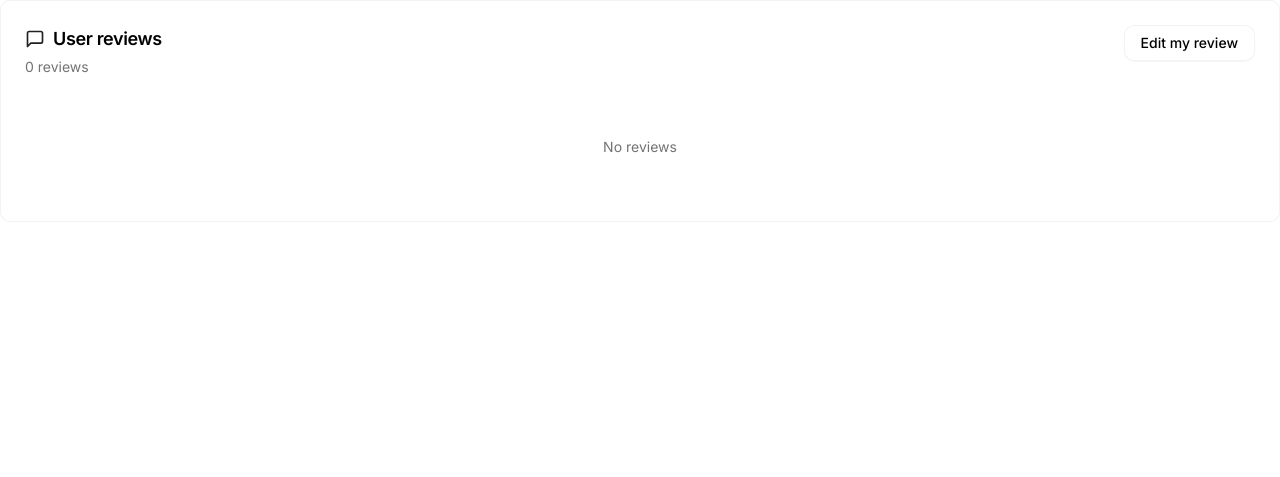
Test case: skill reviews › exposes an accessible rating group and labelled review editor
Click the button "Edit my review" at (1189, 43), box [1124,25,1255,61]
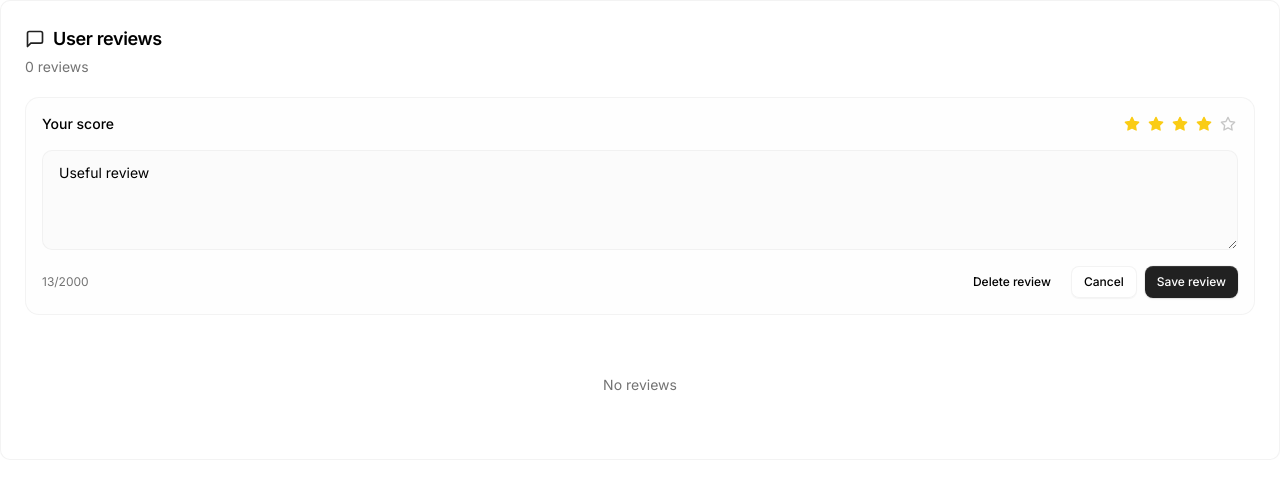
expect the element named "Your score" is shown: met, box [1122,114,1238,134]
expect the radio button named "Rate 4 out of 5 stars" is checked: met, box [1196,116,1212,132]
expect the text box named "Review text" holds "Useful review": met, box [42,150,1238,250]
